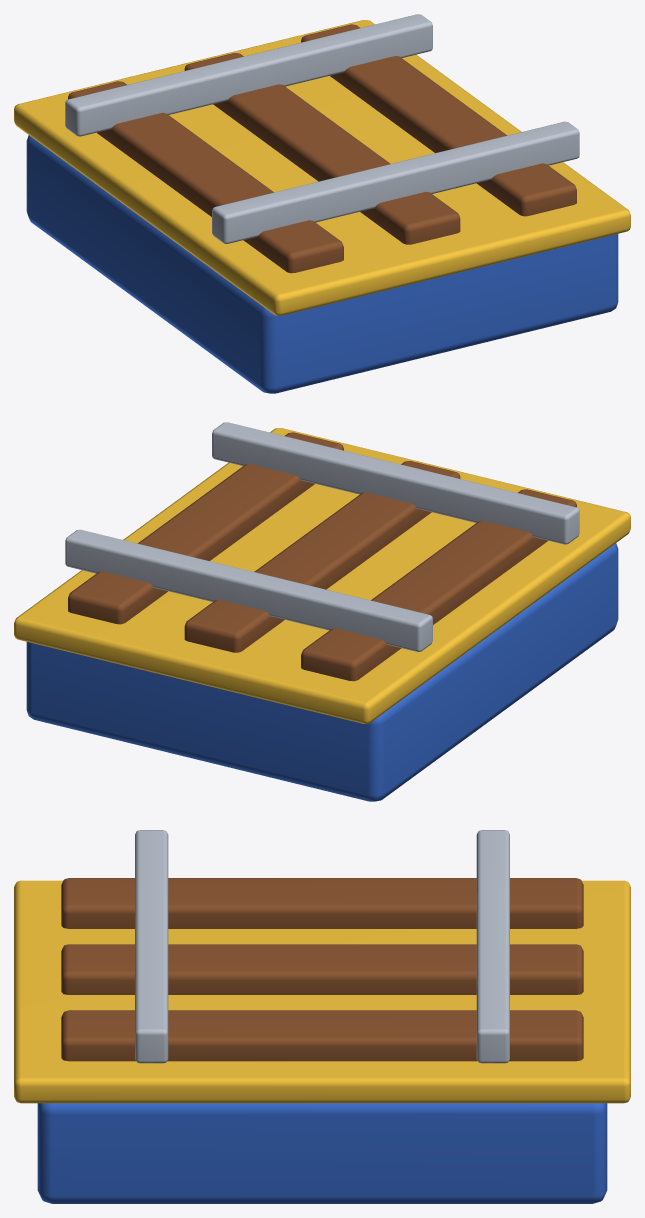
Rendered from toy_track.glb.
3 renders of one model, top to bottom at view 1: azimuth 30°, elevation 25°; view 2: azimuth 150°, elevation 25°; view 3: azimuth 270°, elevation 25°, orthographic. The views are drawn at different scales.
Parts seen in each view (by area): view 1: toy_track; view 2: toy_track; view 3: toy_track.
Boxes of the visible parts, left/top/right/bottom form: toy_track: left=14, top=14, right=630, bottom=393; toy_track: left=14, top=422, right=630, bottom=801; toy_track: left=14, top=830, right=630, bottom=1203.
Size of the model in its own units: 2.02 by 0.83 by 2.6.
